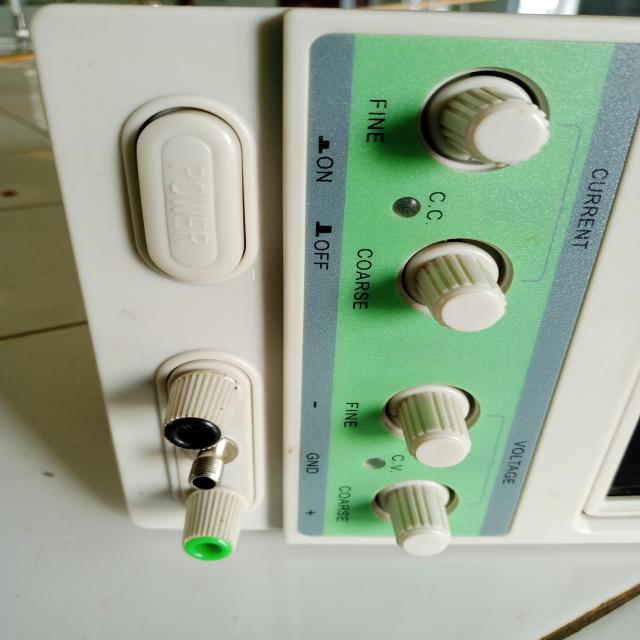Digital Power Supply: (30, 3, 640, 576)
